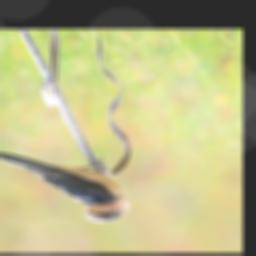Swallow: (0, 148, 132, 227)
